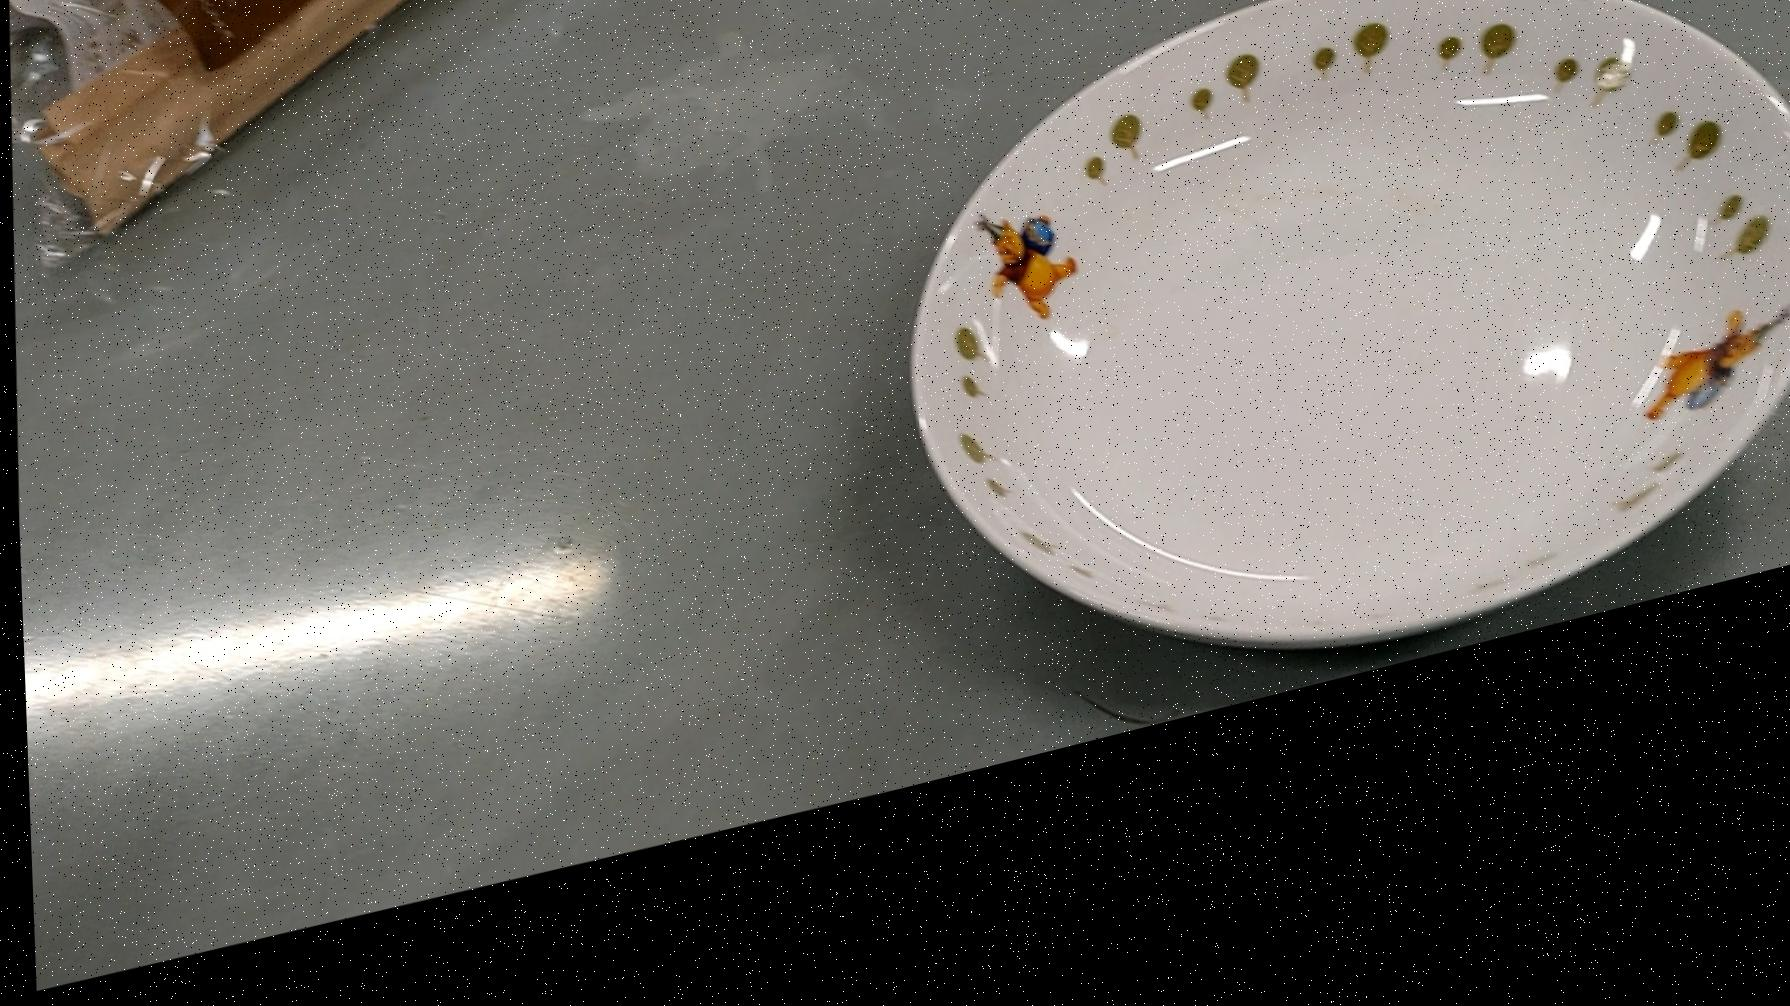plate: (891, 0, 1790, 810)
